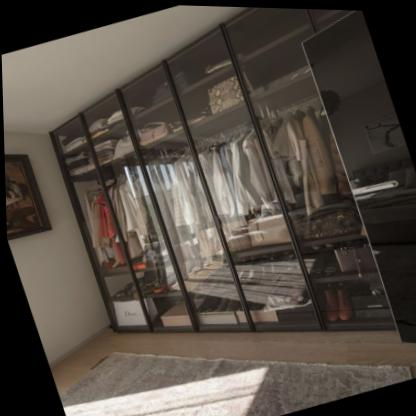Transparent Closet: (52, 6, 416, 344)
